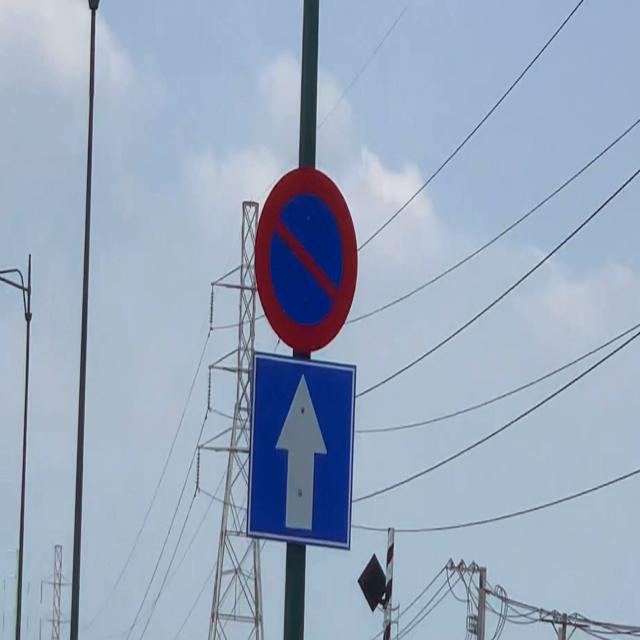Cam do: (254, 164, 361, 349)
Chi dan: (245, 350, 357, 551)
